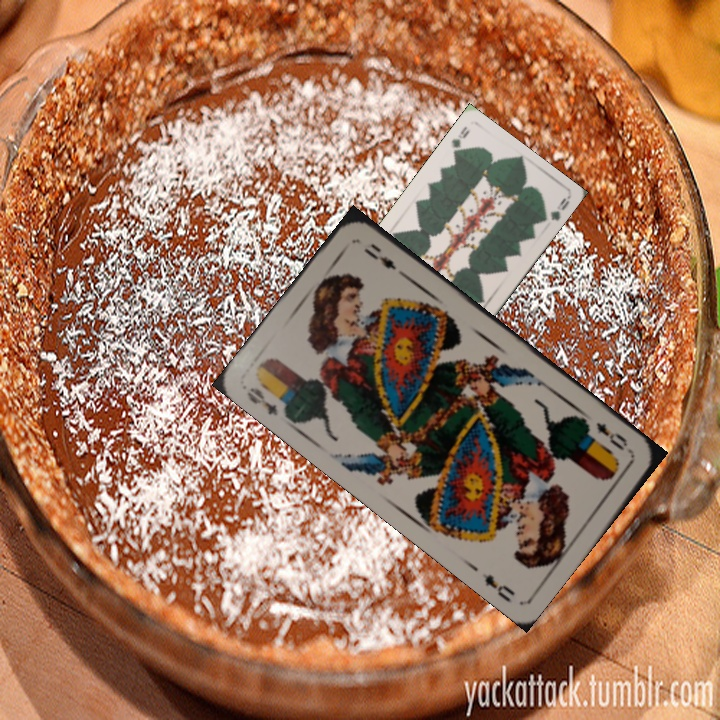EO: (591, 417, 630, 454), (242, 383, 280, 419)
G9: (447, 122, 472, 160)
